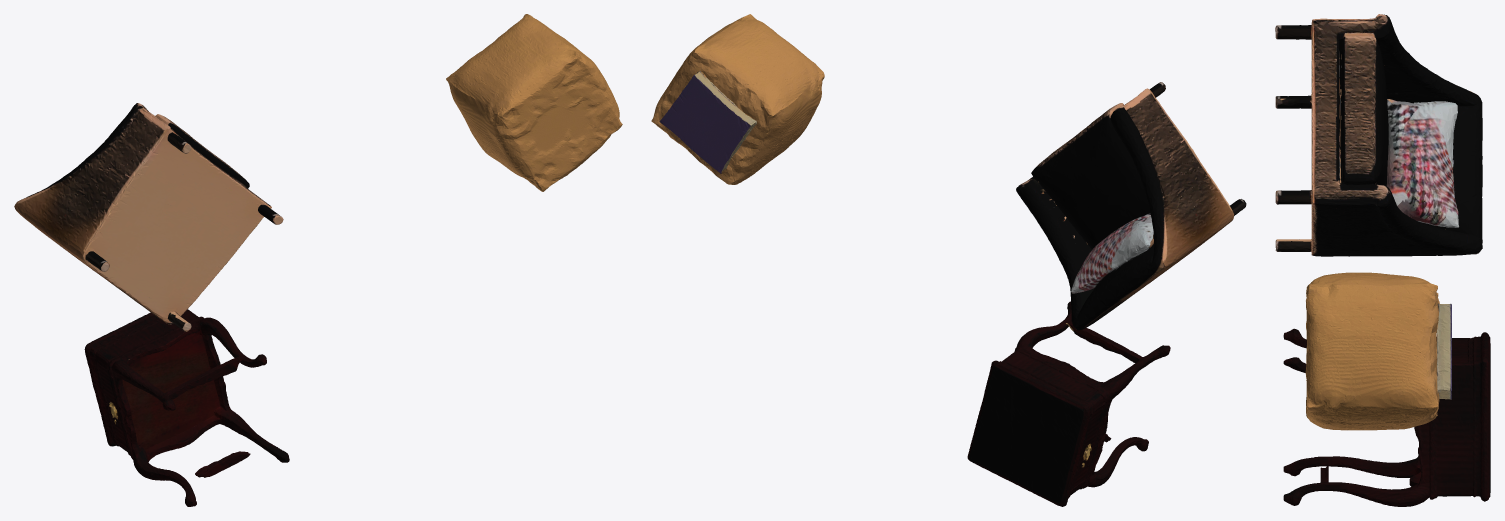
3 views of the same model, side by side, from view 1: azimuth 30°, elevation 25°; view 2: azimuth 150°, elevation 25°; view 3: azimuth 270°, elevation 25° (orthographic). The views are drawn at different scales.
Parts seen in each view (by area): view 1: scene_0000012_object_2_textured_scene_0000012_object_2_textu, scene_0000012_object_1_textured_scene_0000012_object_1_textu, scene_0000012_object_0_textured_scene_0000012_object_0_textu; view 2: scene_0000012_object_2_textured_scene_0000012_object_2_textu, scene_0000012_object_1_textured_scene_0000012_object_1_textu, scene_0000012_object_0_textured_scene_0000012_object_0_textu; view 3: scene_0000012_object_2_textured_scene_0000012_object_2_textu, scene_0000012_object_0_textured_scene_0000012_object_0_textu, scene_0000012_object_1_textured_scene_0000012_object_1_textu.
Boxes of the visible parts, box(x1,y1,x2,y2) form: scene_0000012_object_2_textured_scene_0000012_object_2_textu: box(14, 103, 283, 331); scene_0000012_object_1_textured_scene_0000012_object_1_textu: box(84, 309, 289, 506); scene_0000012_object_0_textured_scene_0000012_object_0_textu: box(446, 14, 622, 191); scene_0000012_object_2_textured_scene_0000012_object_2_textu: box(1016, 82, 1246, 330); scene_0000012_object_1_textured_scene_0000012_object_1_textu: box(967, 301, 1170, 506); scene_0000012_object_0_textured_scene_0000012_object_0_textu: box(651, 14, 824, 184); scene_0000012_object_2_textured_scene_0000012_object_2_textu: box(1275, 14, 1482, 256); scene_0000012_object_0_textured_scene_0000012_object_0_textu: box(1305, 272, 1451, 430); scene_0000012_object_1_textured_scene_0000012_object_1_textu: box(1283, 328, 1490, 506).
Size of the model in its own units: 2.5 by 1.68 by 0.721.
Materials: 3 (3 with a texture image).
